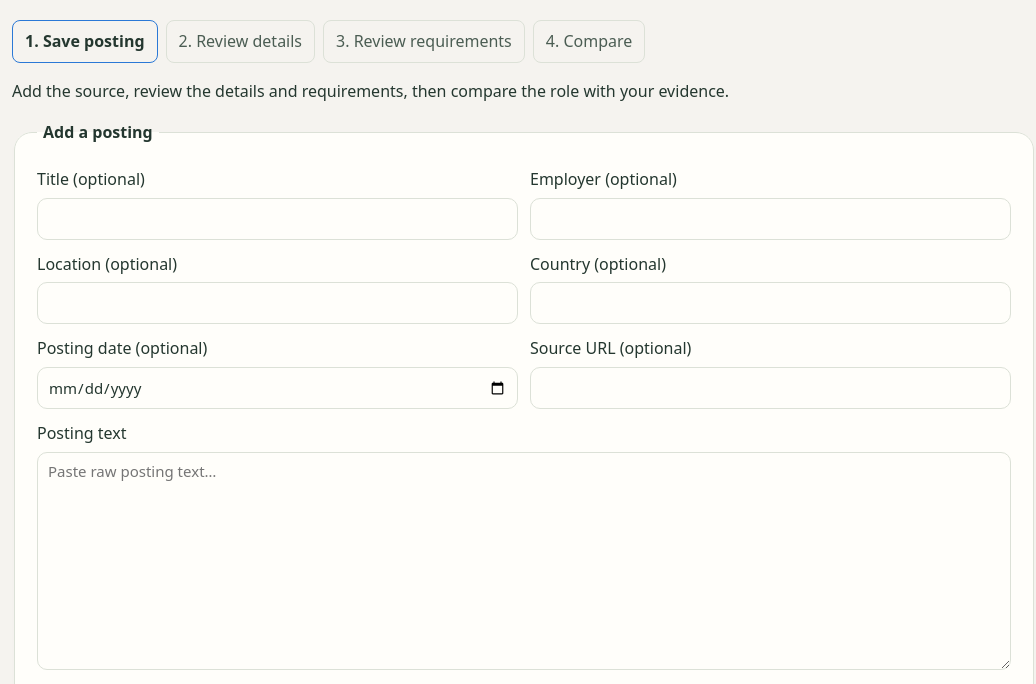
Scenario: Save posting checkpoint › does not show Saved and preserves the entered text when the save fails, and a retry can still succeed
The image size is (1036, 684).
Type "A posting that will fail to save." into the text box with placeholder "Paste raw posting text…".
click(524, 561); type("A posting that will fail to save.")  # box top-left (37, 452), bottom-right (1011, 670)
(page scrolled)
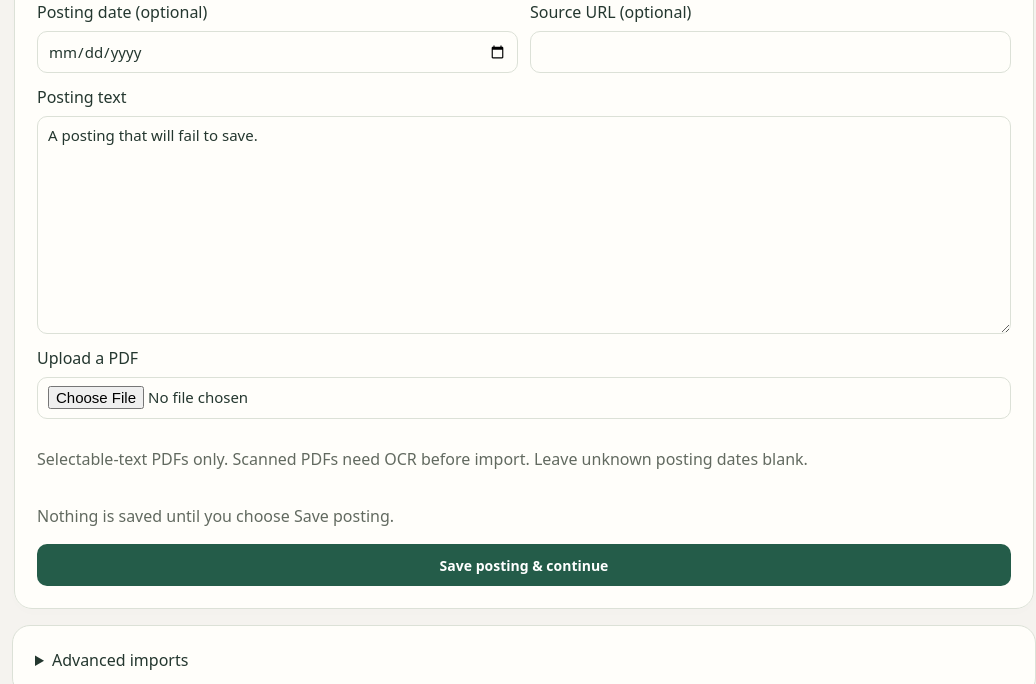
Click the button "Save posting & continue".
click(524, 565)  # box top-left (37, 544), bottom-right (1011, 586)
(page scrolled)
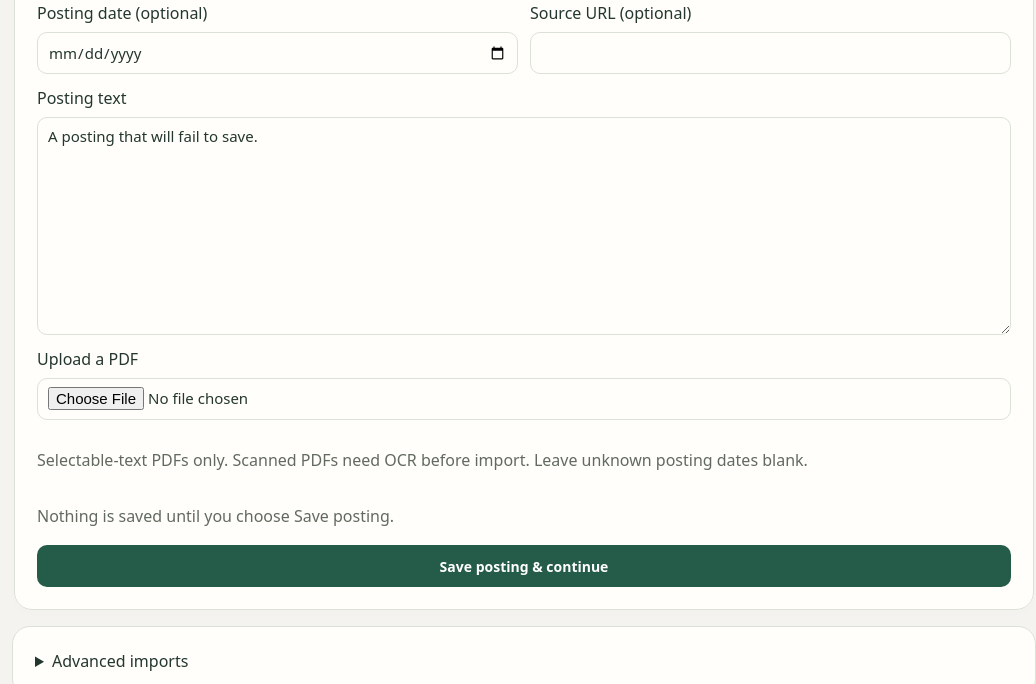
Expected: the text "Saved to Roles" is not shown
Click the button "Save posting & continue".
click(524, 566)  # box top-left (37, 545), bottom-right (1011, 587)
(page scrolled)
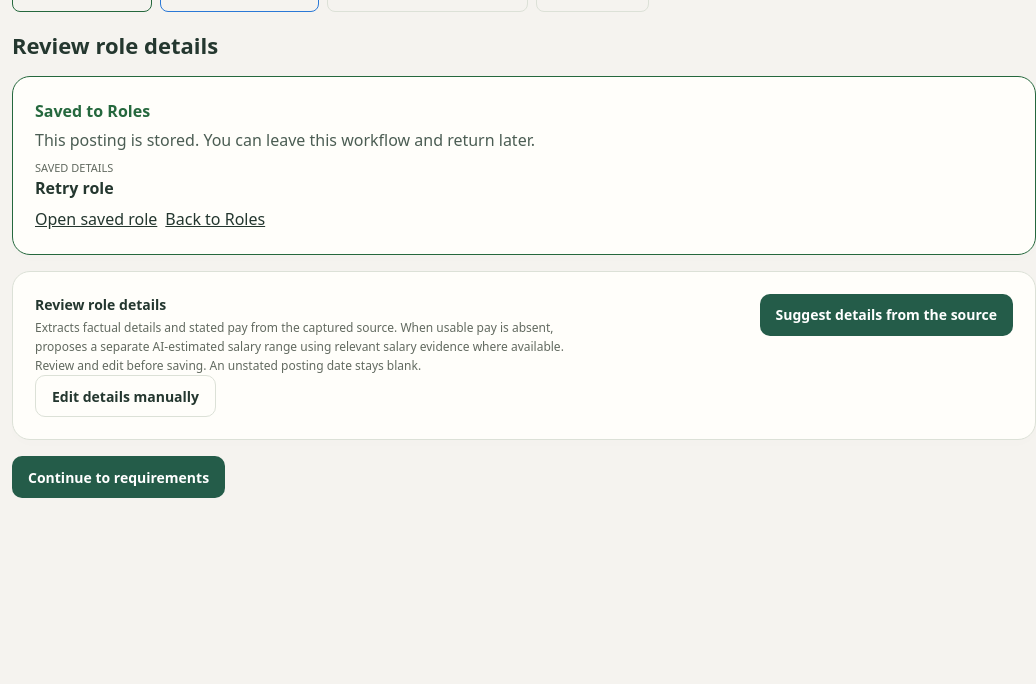
Result: the text "Saved to Roles" is shown at top-left (35, 100), bottom-right (150, 122)
